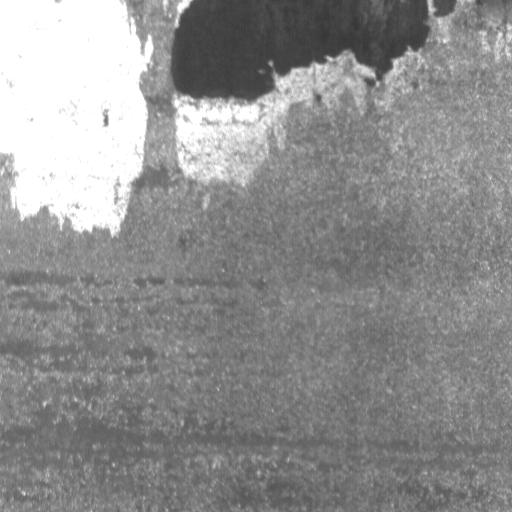aokeng: (169, 1, 461, 107)
